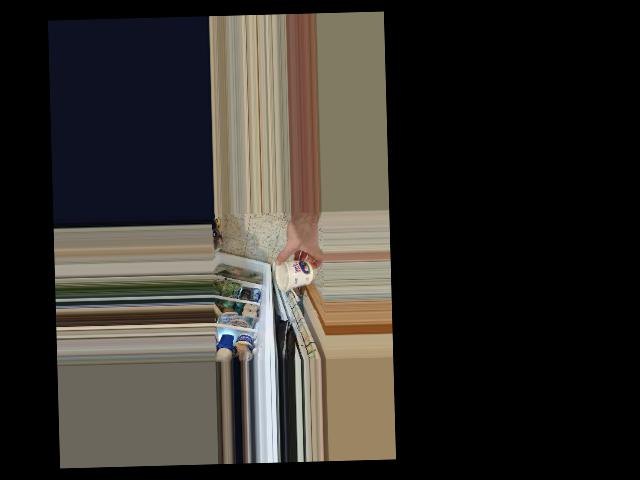cotage: (274, 256, 314, 292)
